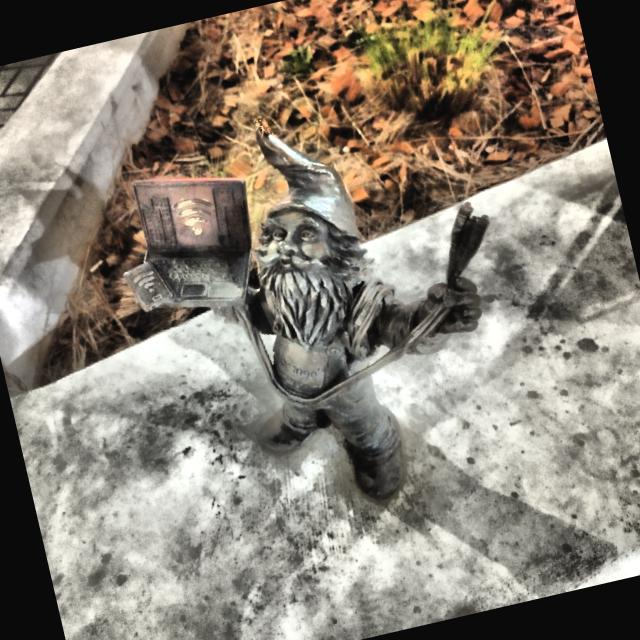Krasnal_Teleclaw: (125, 119, 488, 500)
